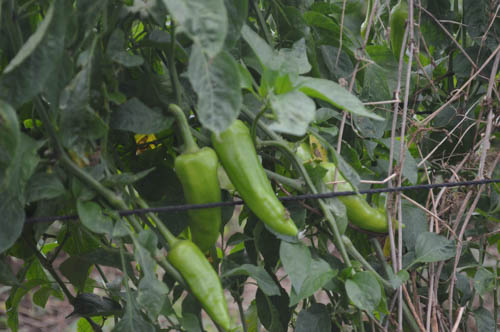ChiliPepper: (216, 120, 297, 239), (317, 164, 404, 234), (169, 239, 236, 329), (178, 151, 226, 251)
